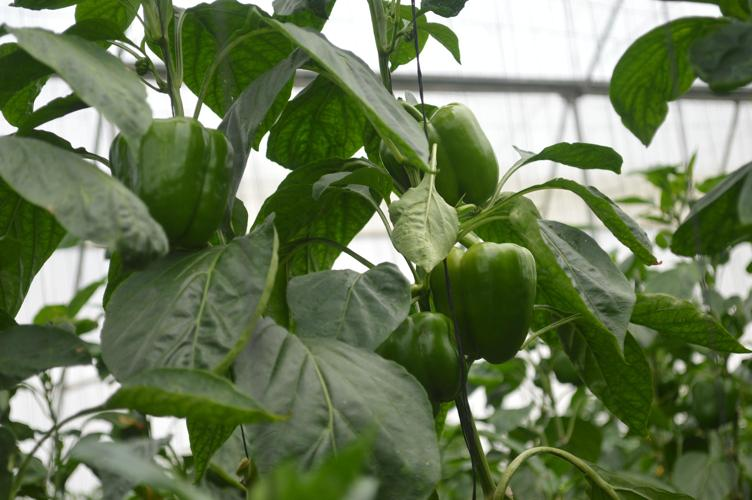BellPepper: (100, 119, 240, 242), (388, 98, 500, 217), (446, 239, 546, 362), (359, 307, 464, 410)
